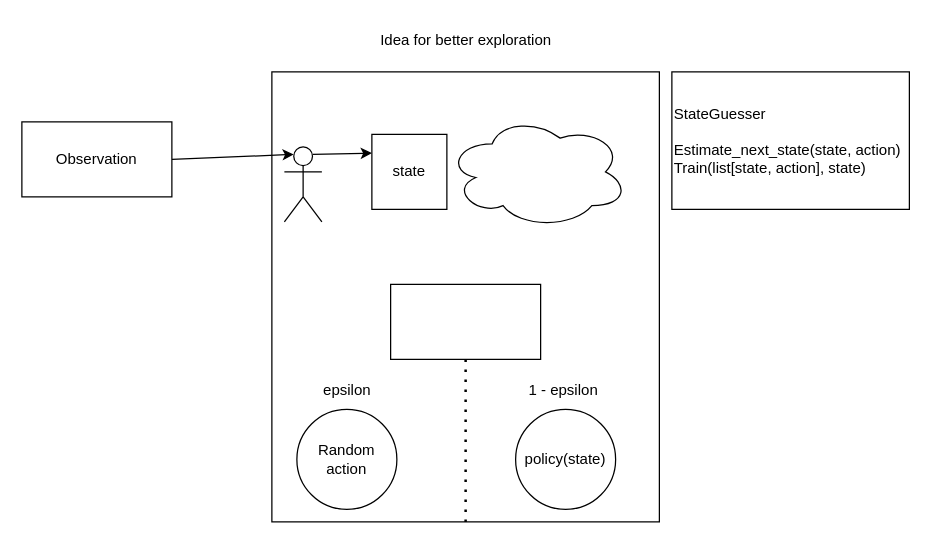
Image size: 931x545. Some labels were removed from this diagram. The shapes that lost their labels are listed below. From the top down, each one's centre as x and y in pixels, then its label:
At point (302, 184): "Agent".
At point (537, 171): "Guessed_state (after previous action)".
At point (465, 321): "epsilon = error(state - guessed_state))".
